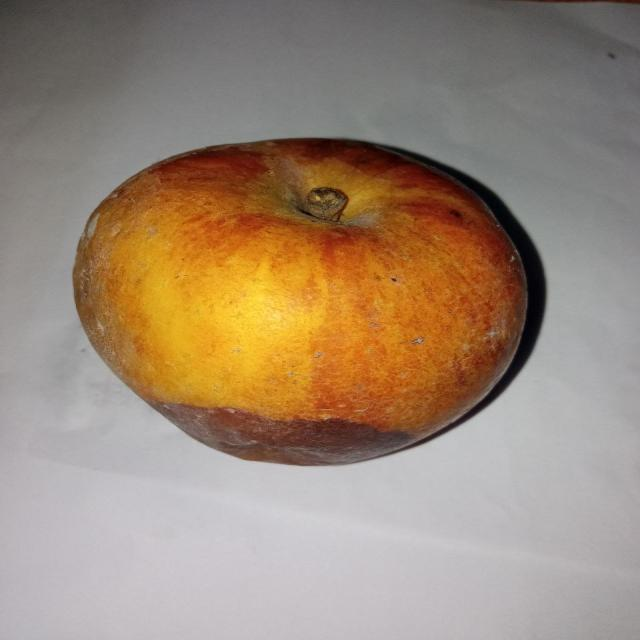rotten_apple: (66, 136, 531, 464)
